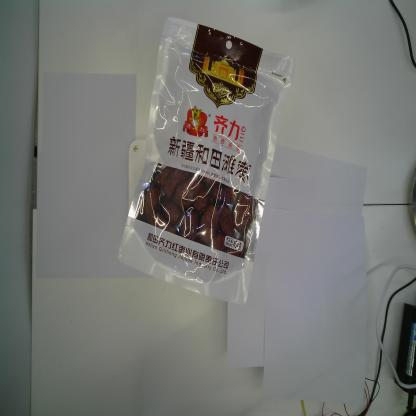Dried Food: (114, 14, 296, 310)
